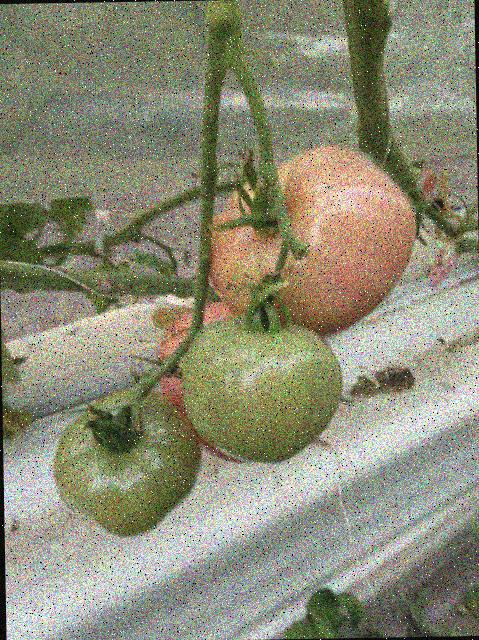b_fully_ripened: (154, 301, 249, 465)
b_green: (178, 313, 344, 465), (49, 387, 201, 539)
b_half_ripened: (197, 144, 418, 339)
